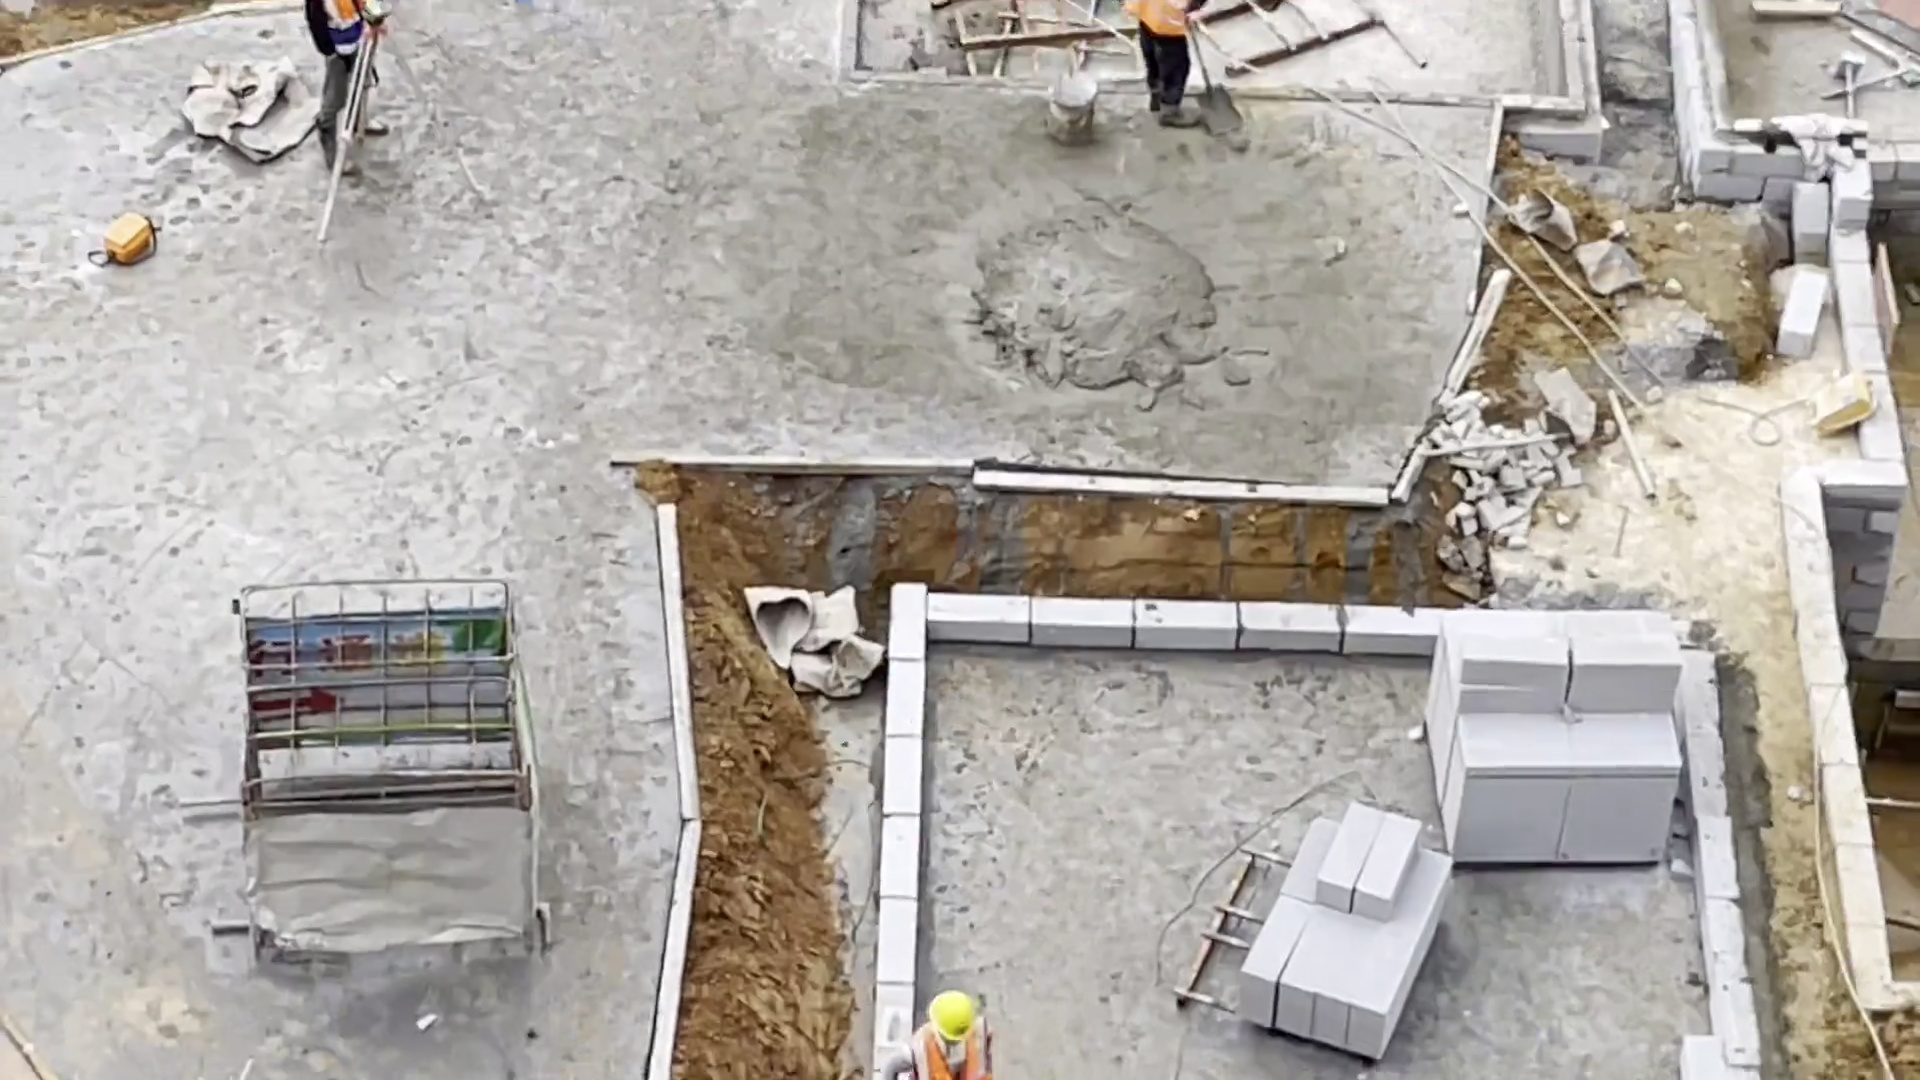helmet: (928, 993, 977, 1043)
person: (294, 1, 391, 179), (1129, 1, 1204, 136)
vest: (325, 1, 390, 58), (1125, 1, 1200, 38)
